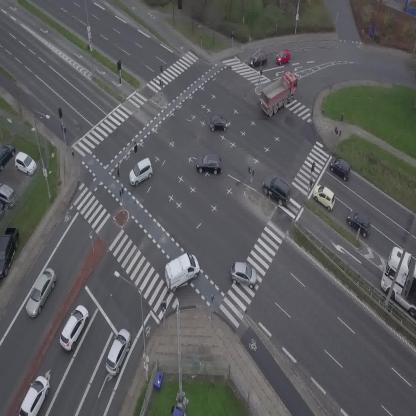car: (21, 266, 61, 319), (54, 302, 94, 352), (102, 326, 135, 377), (15, 373, 54, 416), (257, 171, 297, 209), (123, 156, 158, 187), (342, 208, 375, 238), (309, 182, 340, 211), (326, 153, 356, 181), (229, 261, 258, 288), (195, 153, 222, 175), (247, 50, 269, 67), (273, 48, 292, 65), (210, 115, 228, 131)
lorry: (252, 68, 307, 118), (380, 247, 416, 316), (156, 249, 206, 294)
